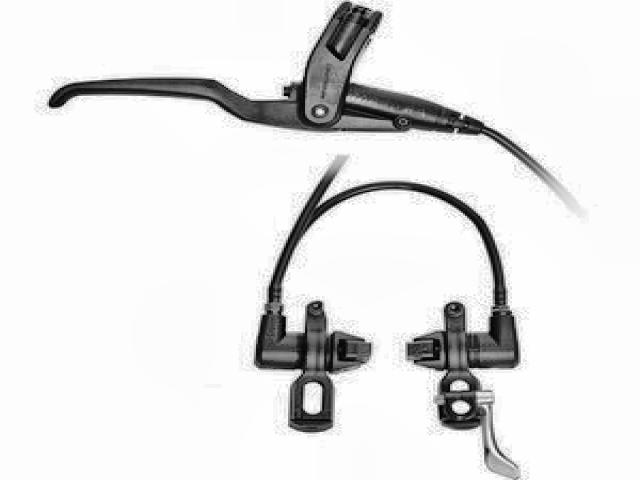rim_brake: (251, 180, 524, 478)
